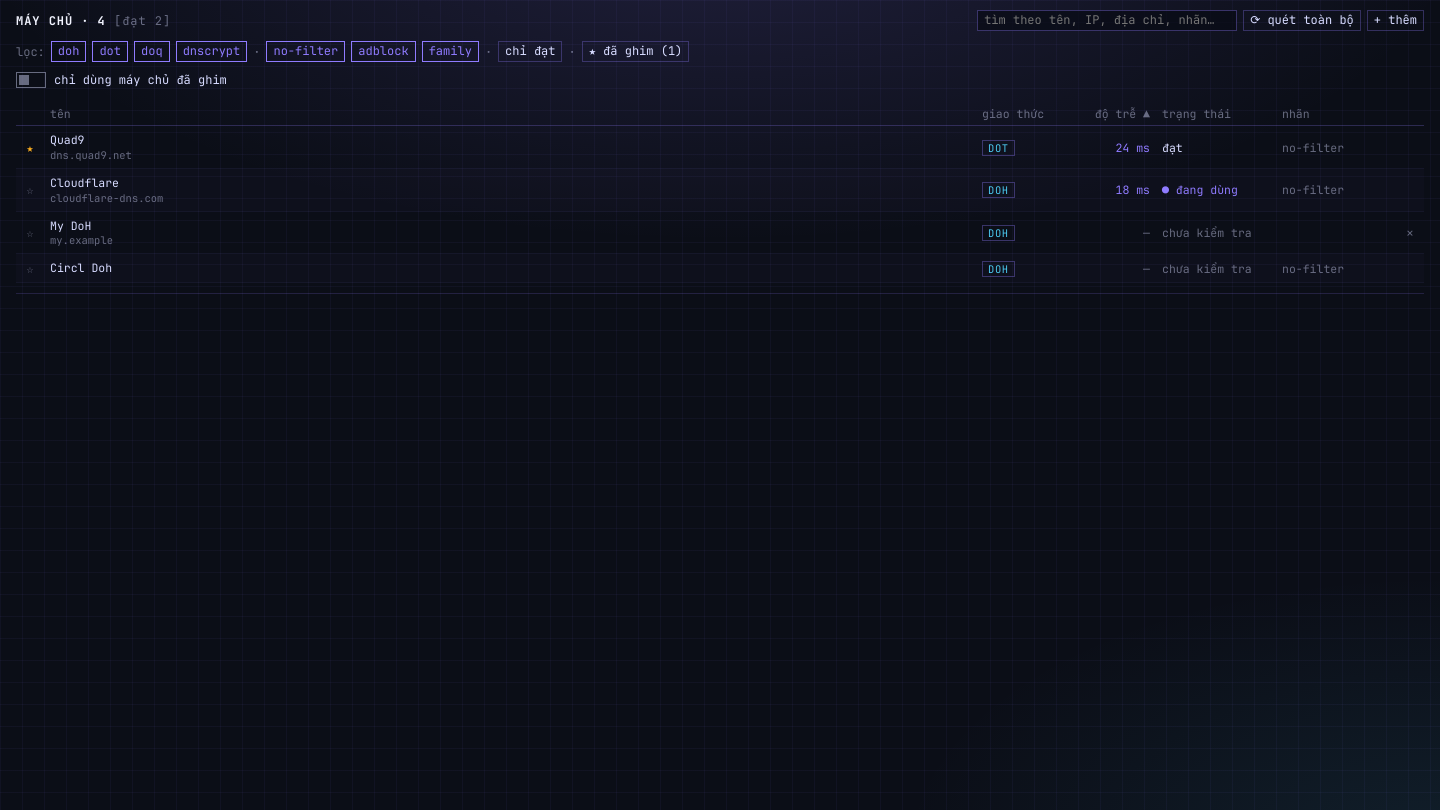
search ignores the base64 inside sdns:// stamps
Type "adg" into the search field named "tìm máy chủ" at [1107, 21], box [977,10,1237,31]
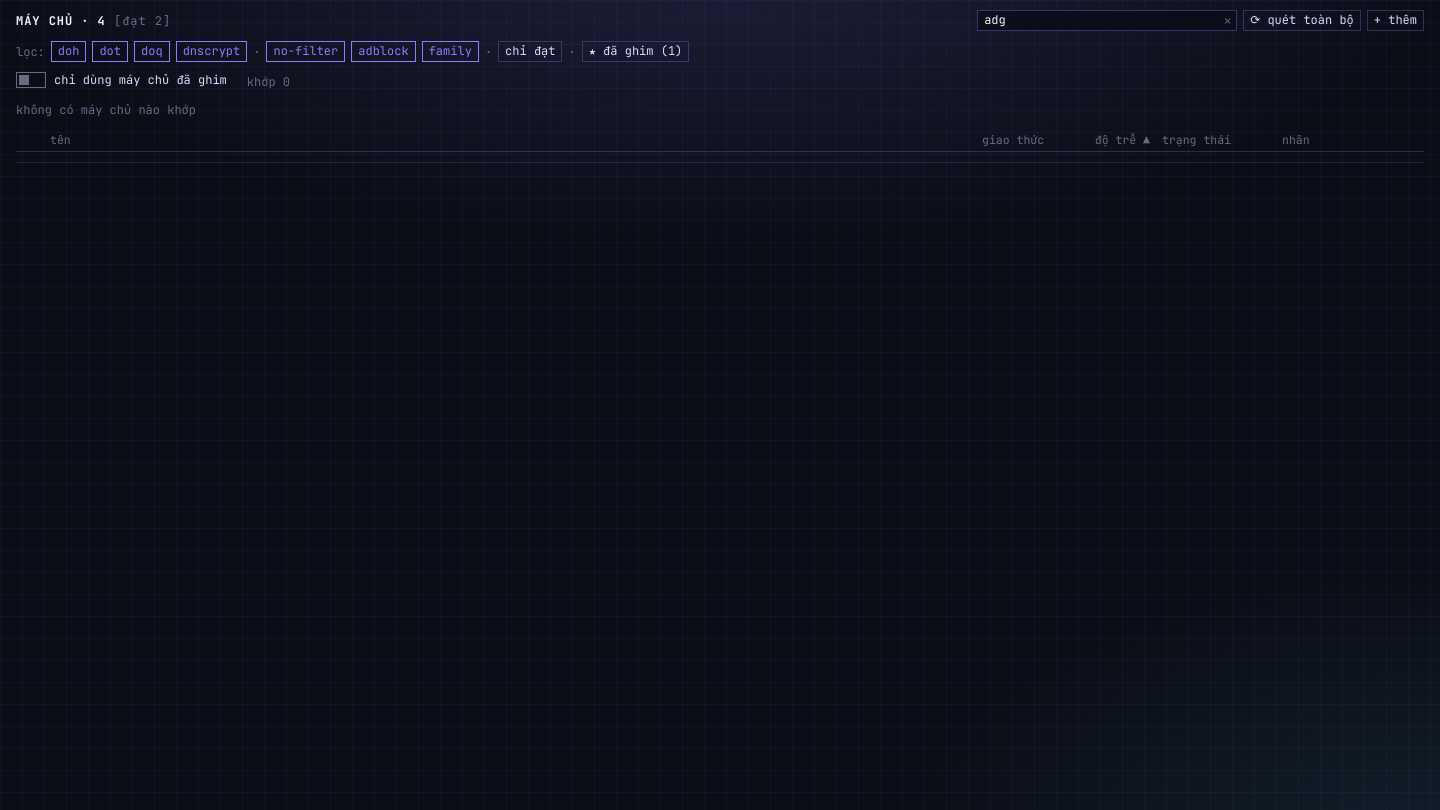
Check: the text "Circl Doh" is gone
Replace the text in the search field named "tìm máy chủ" with "sdns" at [1107, 21], box [977,10,1237,31]
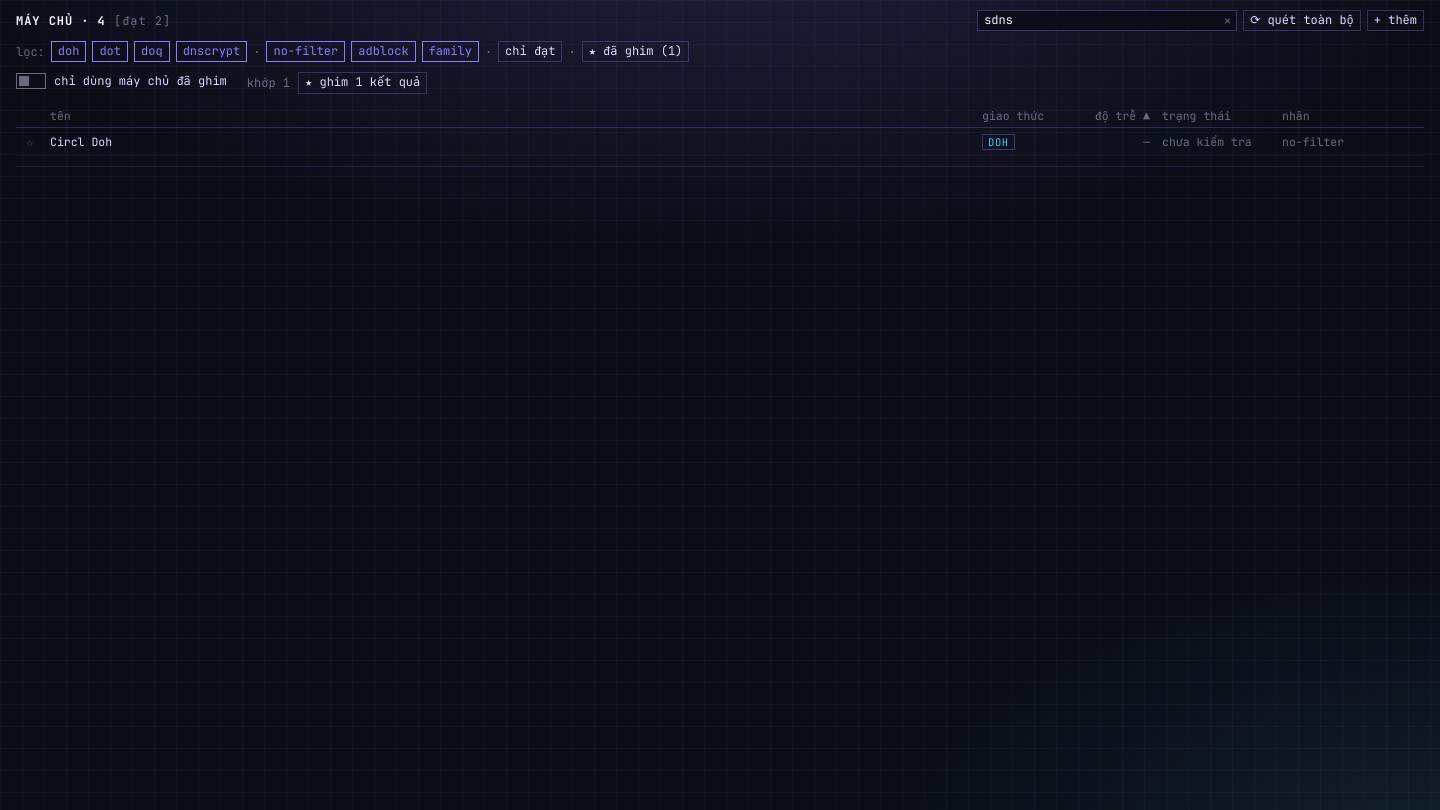
Check: the text "Circl Doh" is shown, box [50,134,112,149]
